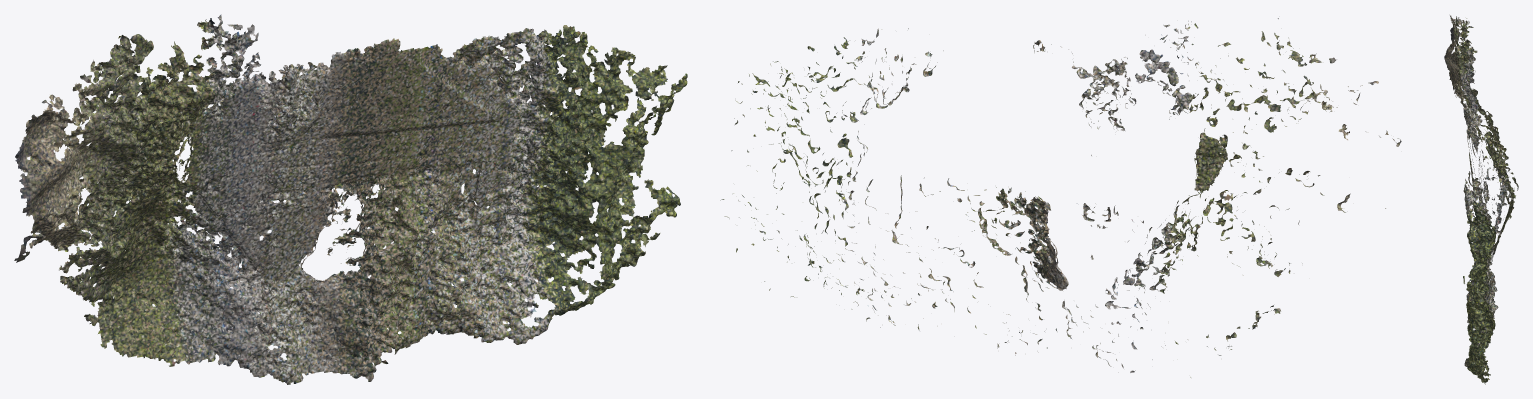
3 renders of one model, left to right at view 1: azimuth 30°, elevation 25°; view 2: azimuth 150°, elevation 25°; view 3: azimuth 270°, elevation 25°, orthographic. The views are drawn at different scales.
Parts seen in each view (by area): view 1: mesh_final.ply; view 2: mesh_final.ply; view 3: mesh_final.ply.
Part boxes in pixels (<box>): mesh_final.ply: <box>14,14,687,384</box>; mesh_final.ply: <box>720,18,1401,377</box>; mesh_final.ply: <box>1444,15,1518,384</box>.
Size of the model in its own units: 16.59 by 9.55 by 2.69.
